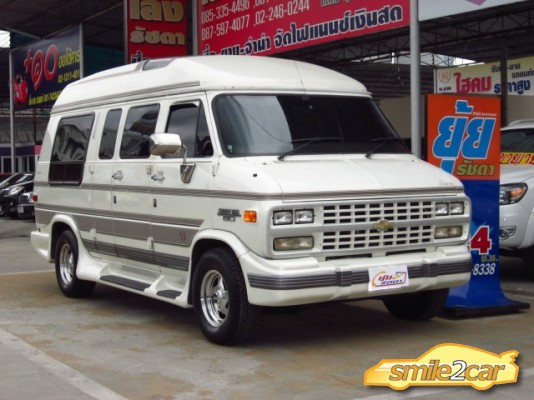van: (29, 54, 472, 345)
